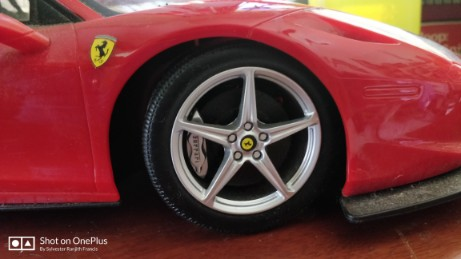unaligned_wheel: (125, 40, 349, 238)
